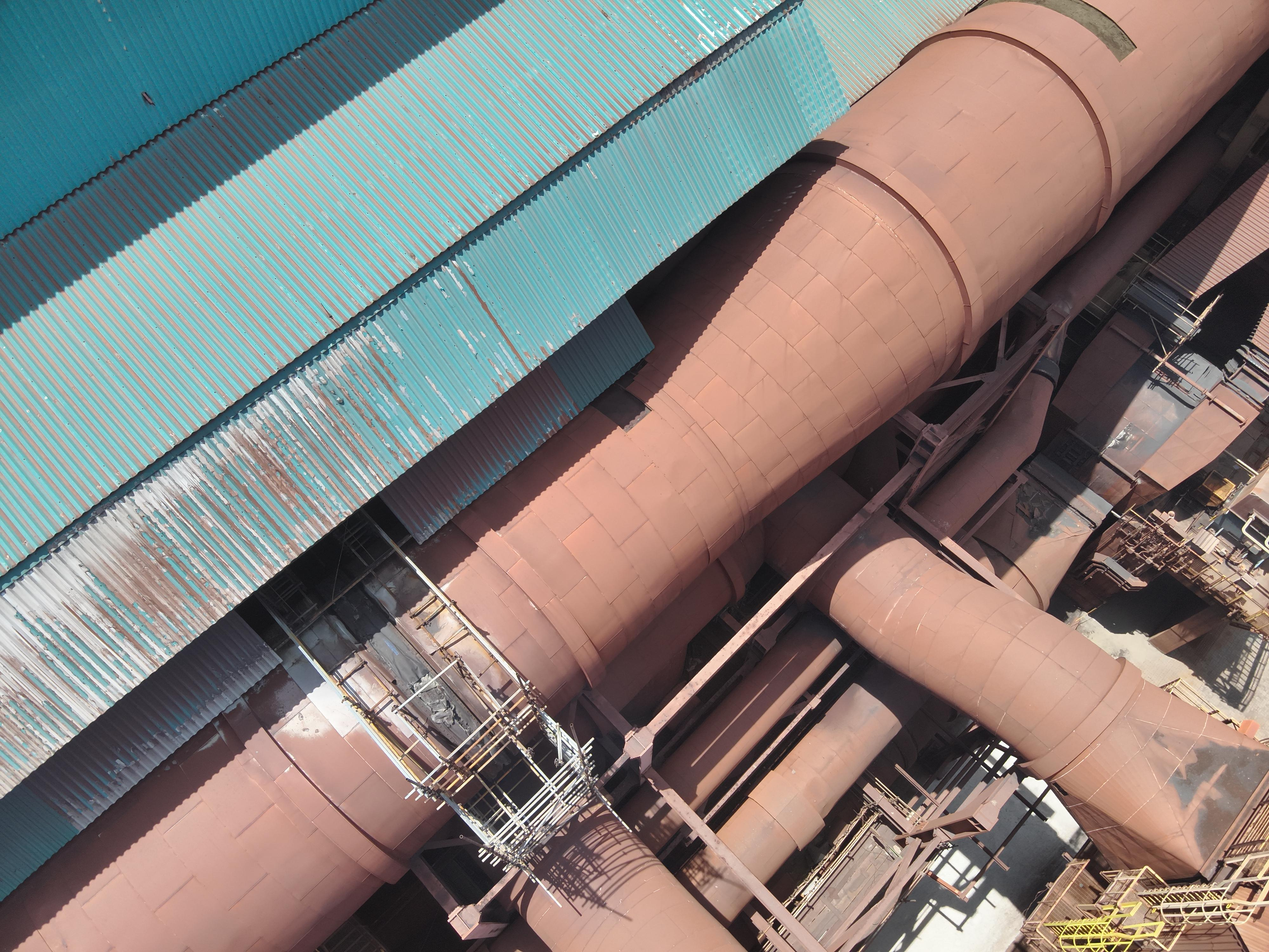Failures: (403, 658, 500, 785), (1020, 0, 1144, 60), (592, 355, 648, 431), (1015, 489, 1073, 533)
